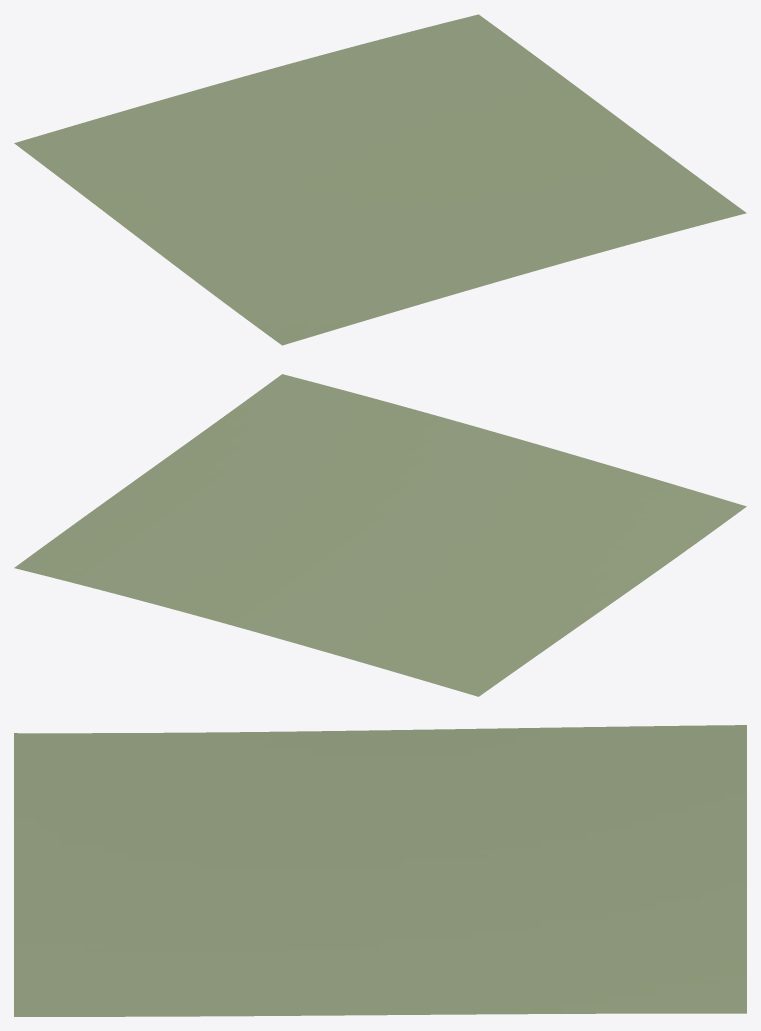
Rendered from expanse-28-15.glb.
3 renders of one model, top to bottom at view 1: azimuth 30°, elevation 25°; view 2: azimuth 150°, elevation 25°; view 3: azimuth 270°, elevation 25°, orthographic. The views are drawn at different scales.
Visible parts, largest first — view 1: expanse-28-15; view 2: expanse-28-15; view 3: expanse-28-15.
Part boxes in pixels (left/top/right/bottom): expanse-28-15: left=14, top=14, right=746, bottom=345; expanse-28-15: left=14, top=374, right=746, bottom=696; expanse-28-15: left=14, top=725, right=746, bottom=1016.
Bounding box in the file's own units: 256 × 11.32 × 256.
